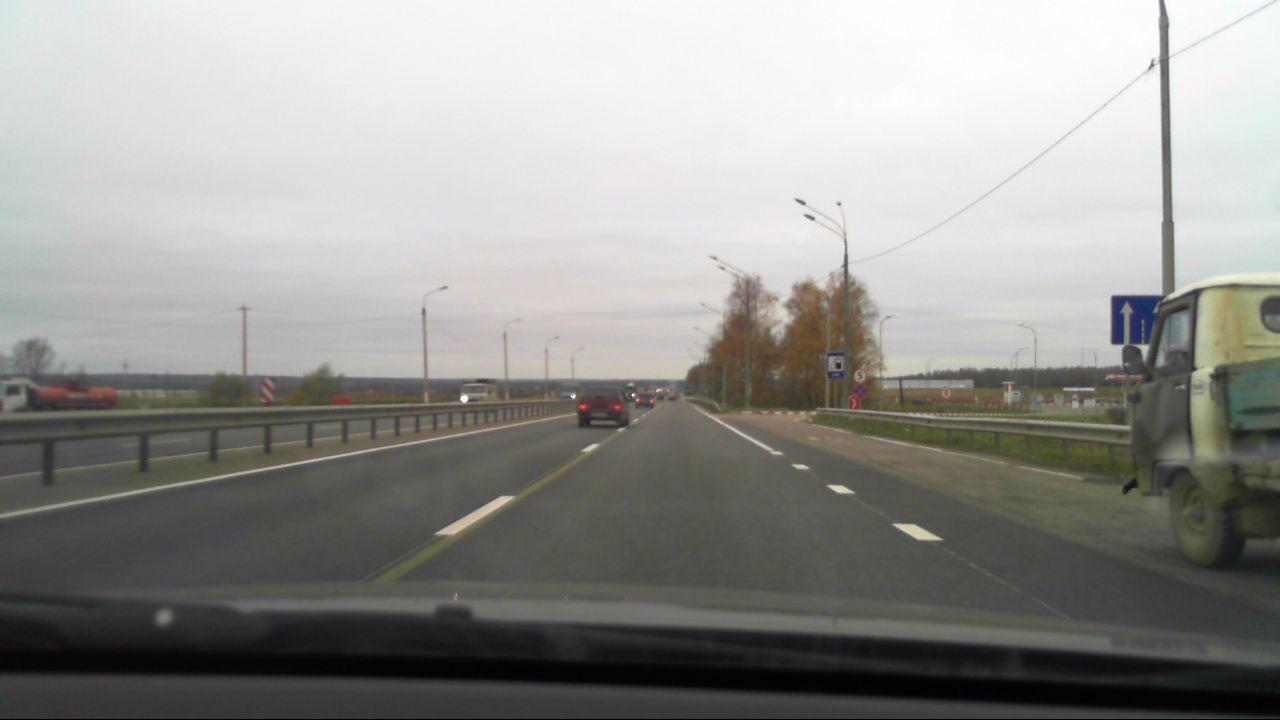3_24: (851, 368, 867, 383)
3_27: (855, 385, 867, 398)
5_15_1: (1109, 294, 1166, 344)
7_3: (826, 352, 846, 379)
